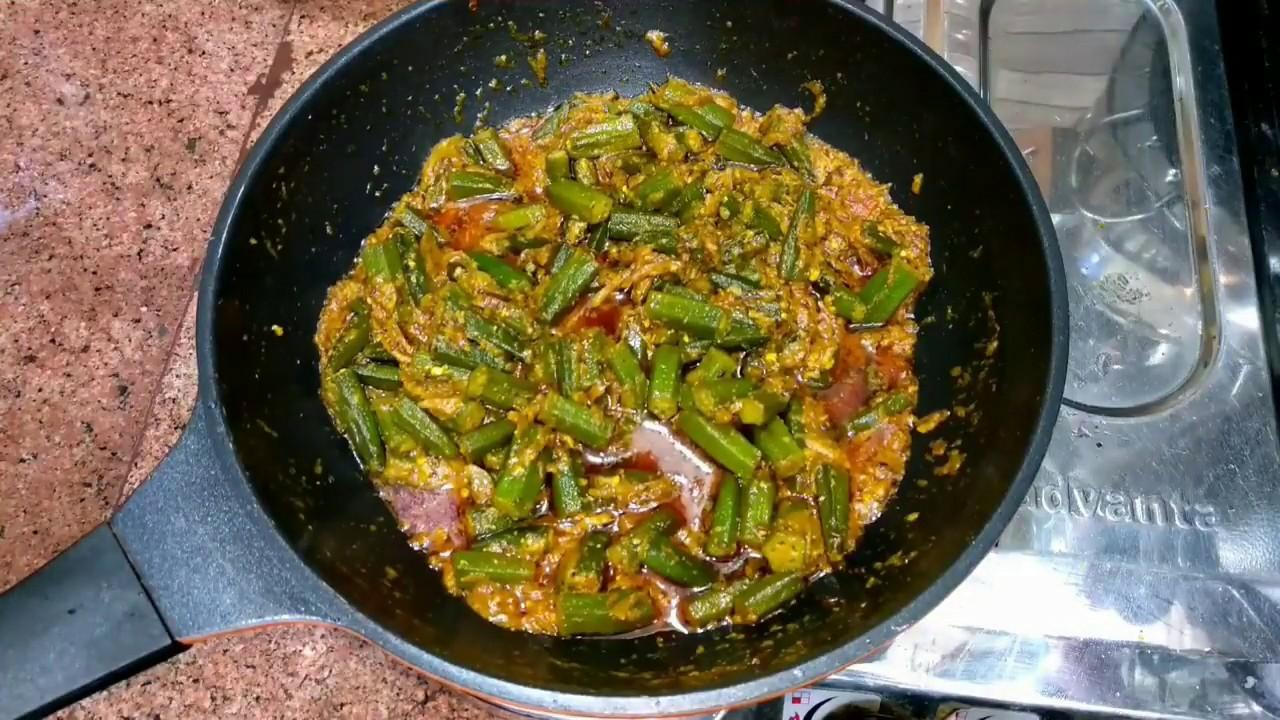BhindiMasala: (316, 77, 933, 640)
